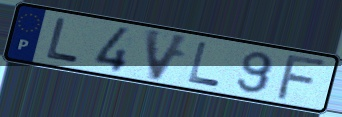4: (92, 26, 136, 74)
9: (238, 50, 276, 96)
F: (273, 53, 331, 102)
L: (185, 40, 222, 90), (44, 16, 81, 66)
V: (143, 26, 193, 84)
